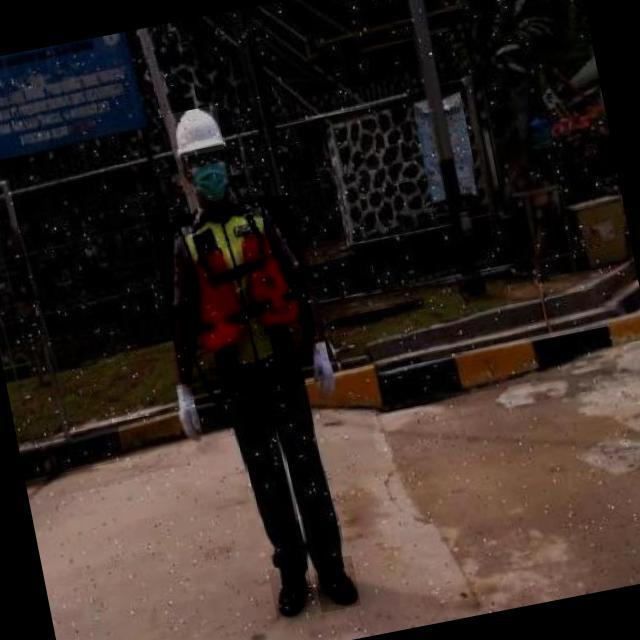Gloves: (162, 376, 210, 451), (306, 331, 344, 396)
Helmet: (166, 106, 225, 161)
Person: (128, 87, 411, 633)
Safety Boot: (268, 563, 318, 624), (312, 555, 361, 613)
Safety Vest: (150, 194, 326, 408)
